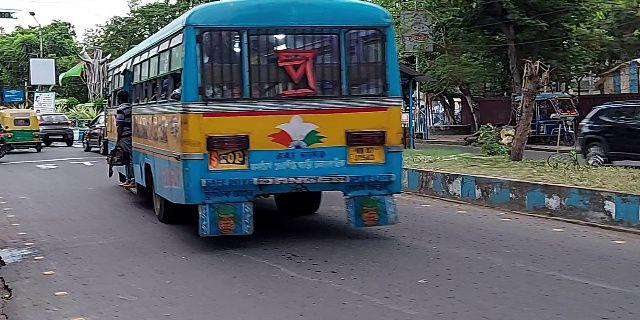Autorickshaw: (4, 107, 44, 151)
Bus: (93, 2, 434, 241)
Car: (36, 110, 75, 152)
